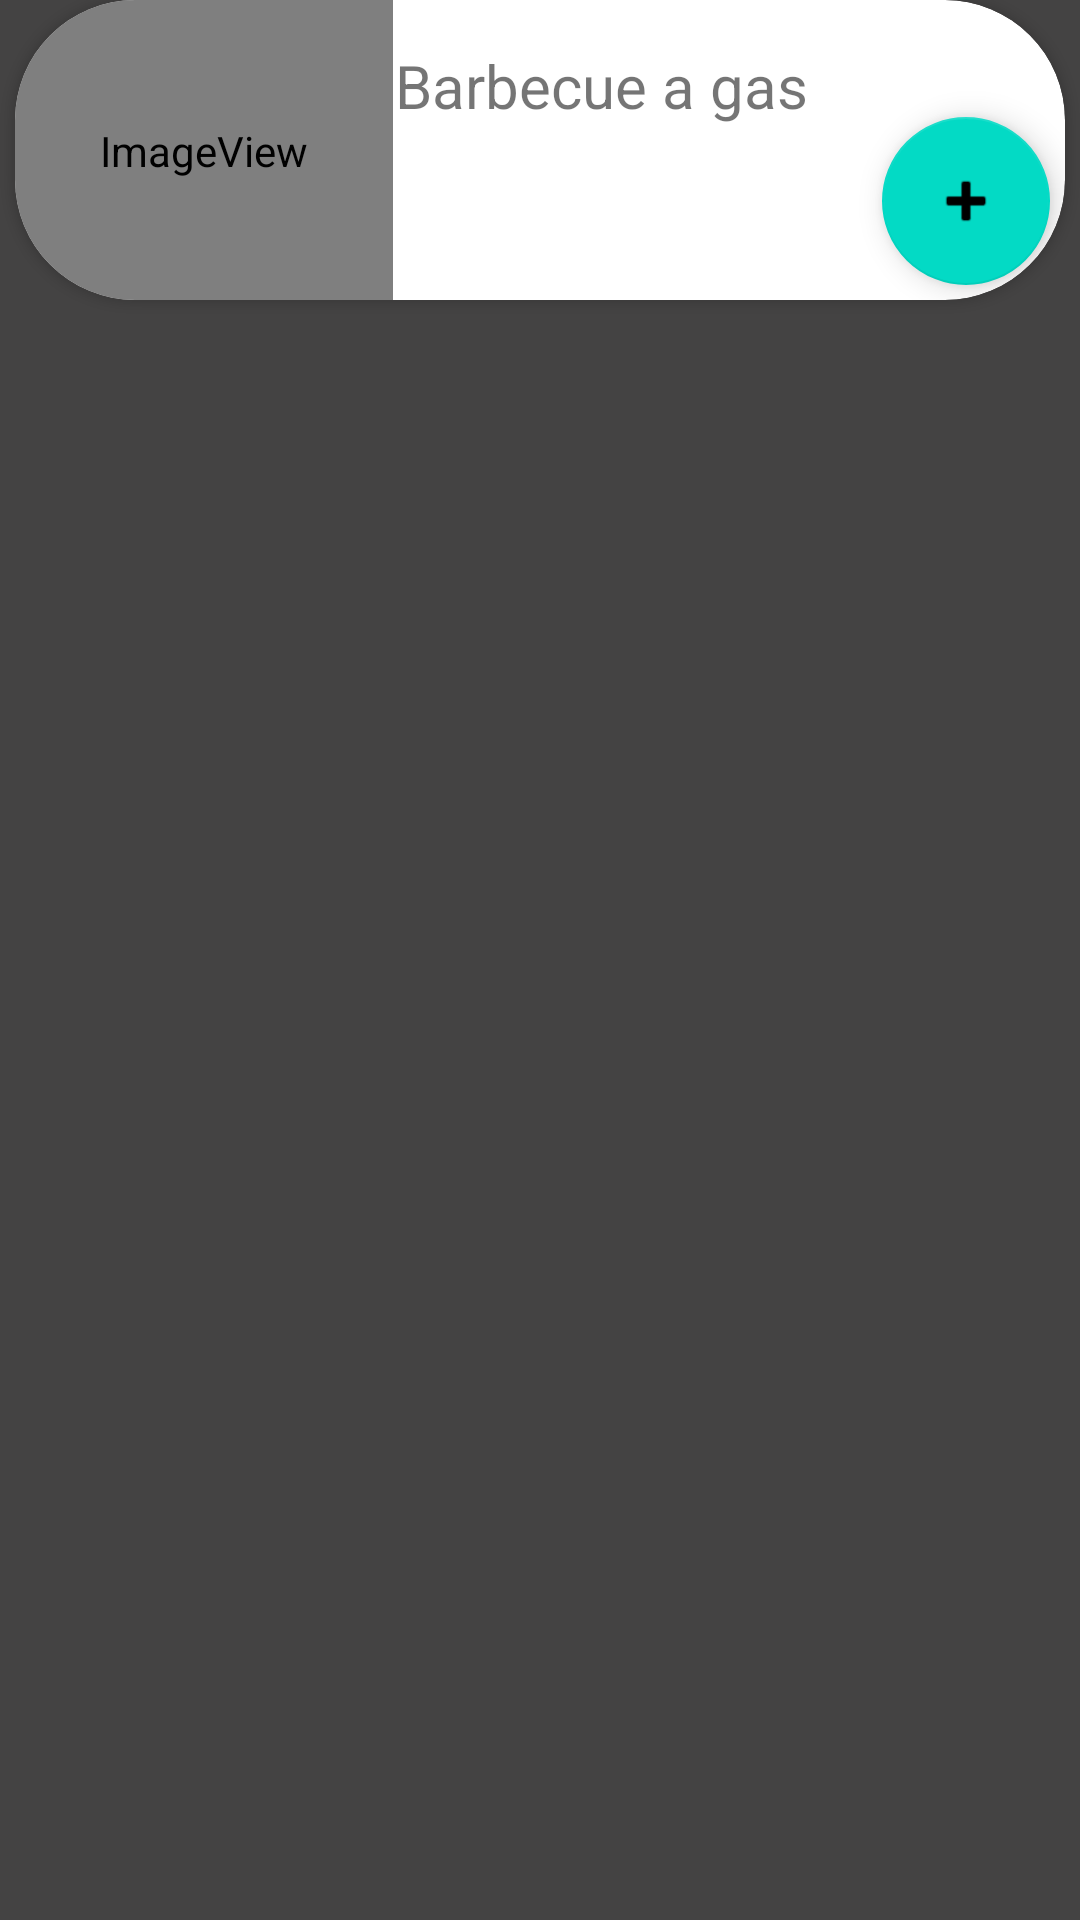

Icons on this 1080px×1920px Android screen, each with the point to tap as (x=x, y=y):
add: (x=966, y=201)
